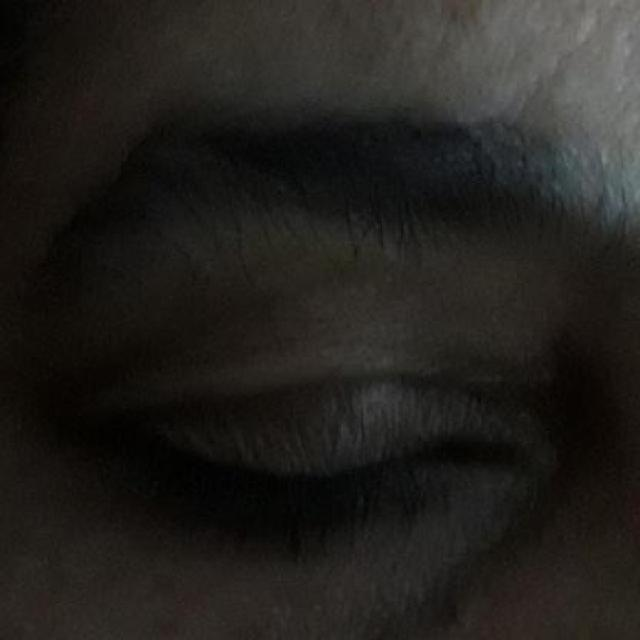drowsy: (136, 363, 524, 571)
